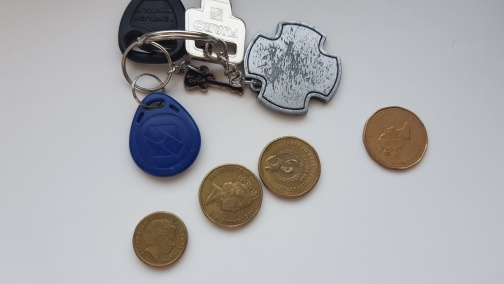coin: (362, 104, 429, 172), (197, 163, 264, 230), (258, 136, 321, 200), (132, 211, 189, 269)
